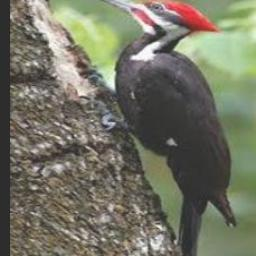Woodpecker: (88, 0, 236, 256)
